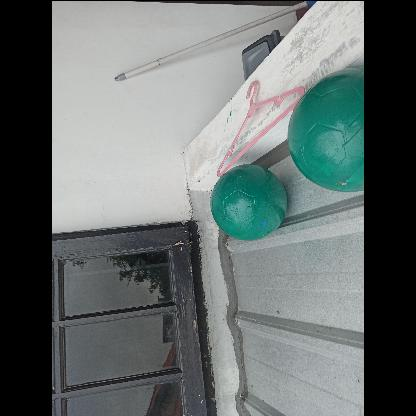green_ball: (209, 162, 286, 240)
